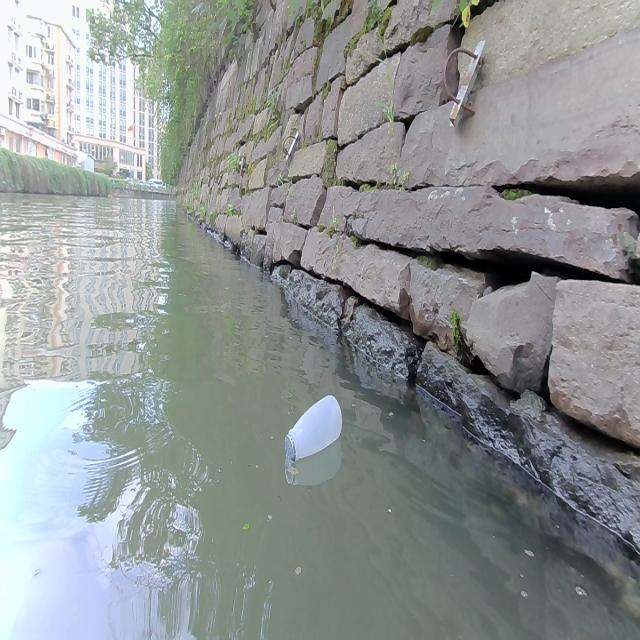bottle: (285, 392, 343, 461)
